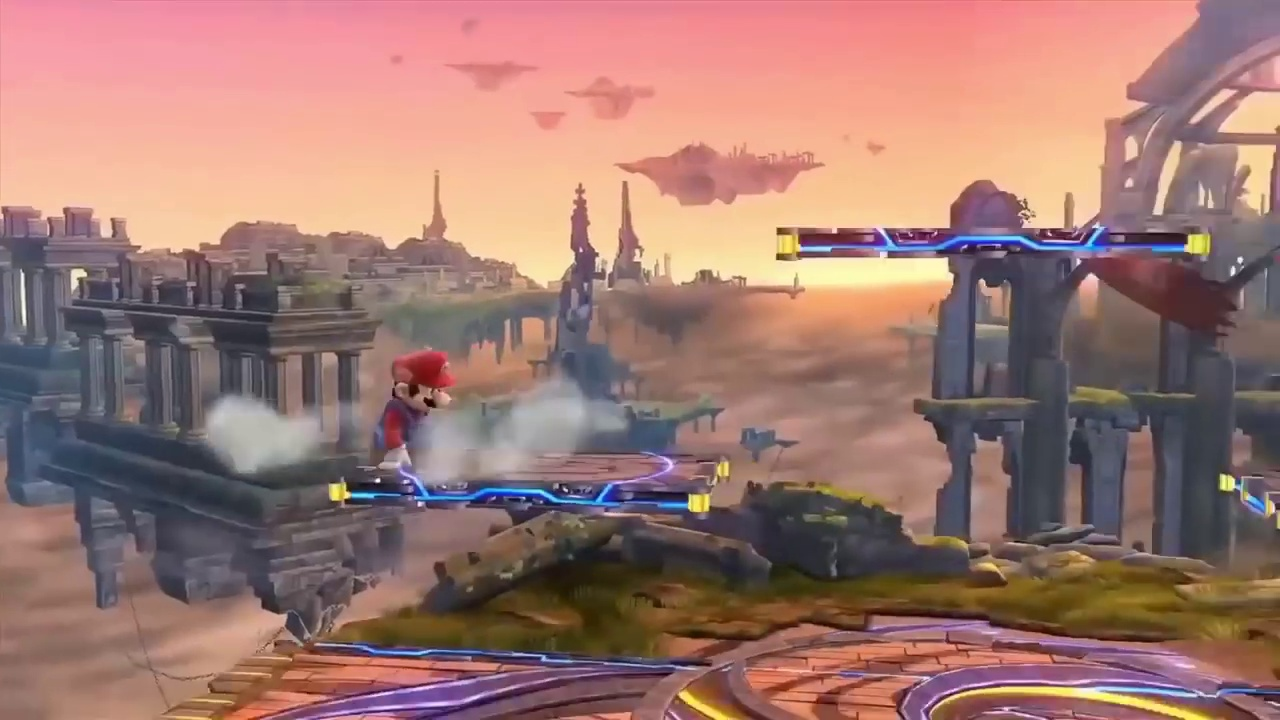Mario: (369, 350, 454, 472)
